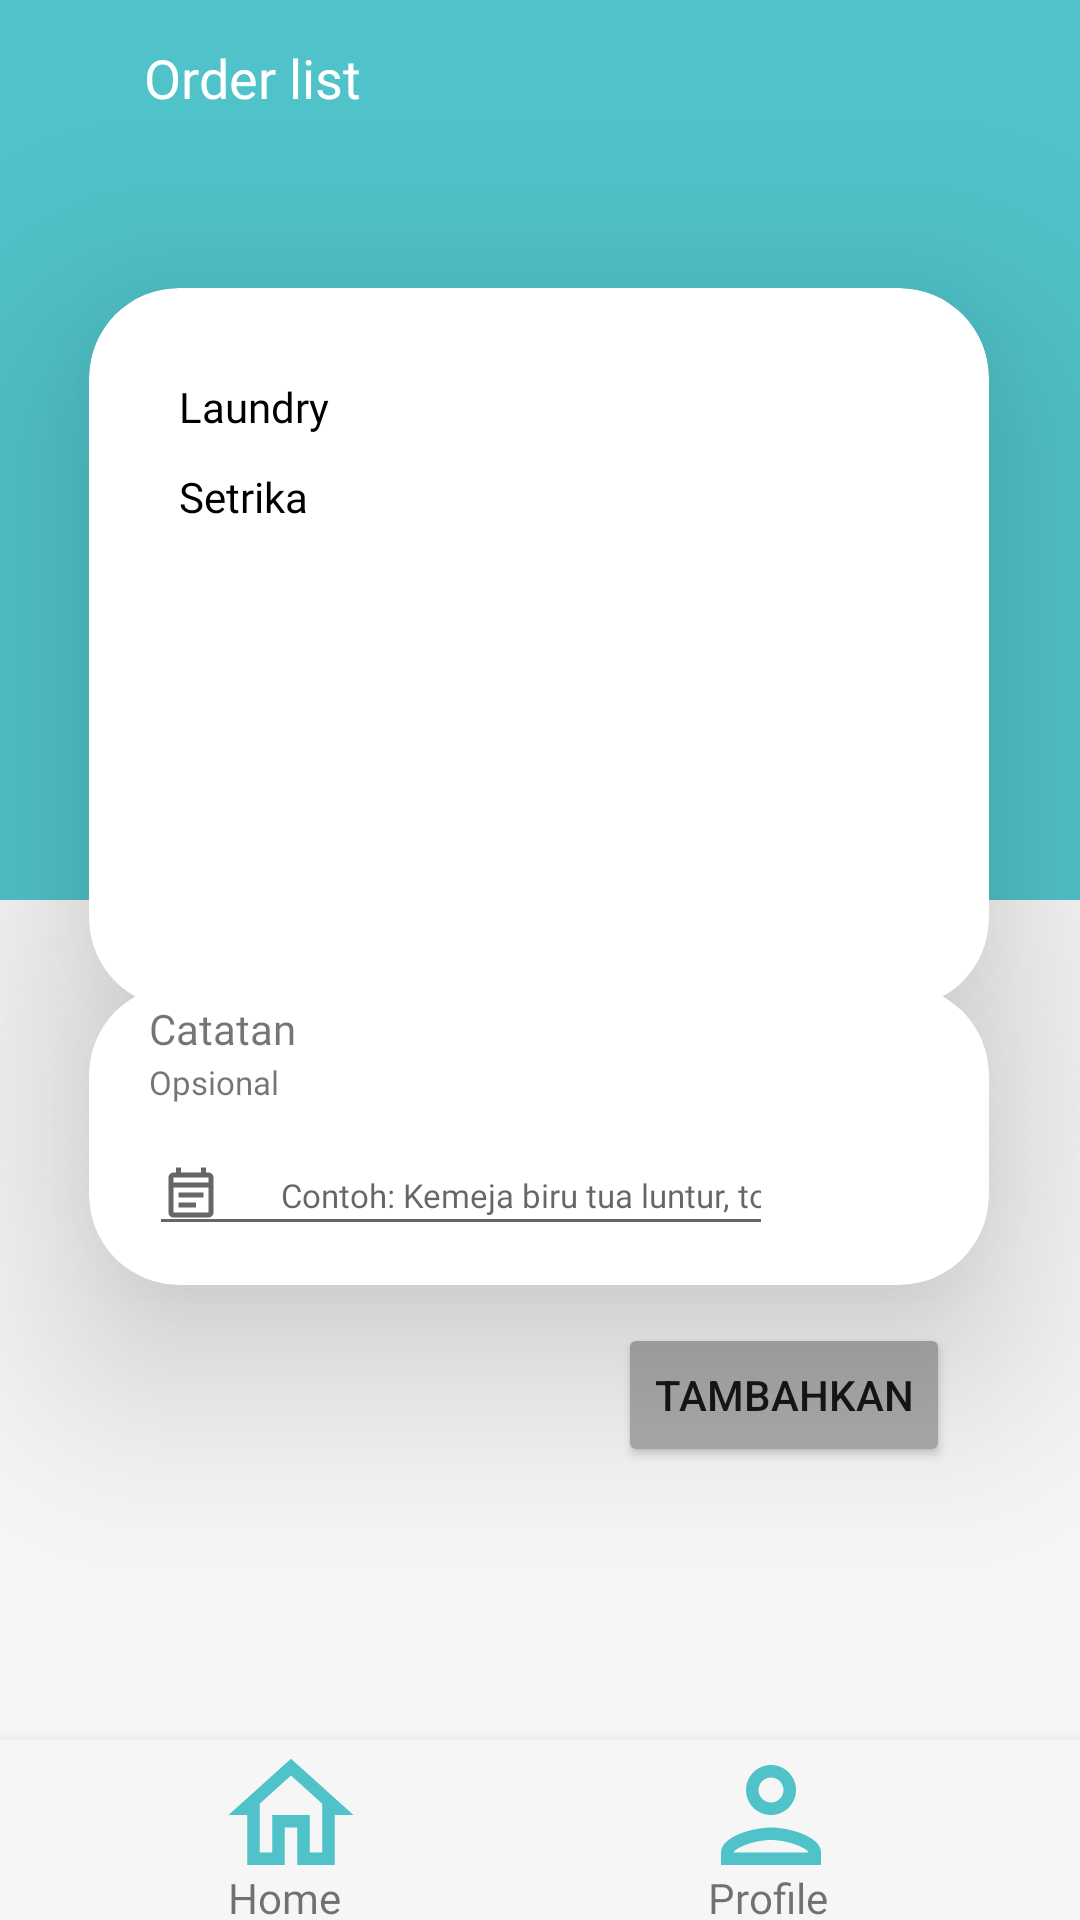

Screen size 1080 x 1920. Icon name, then its box in pixels as (x1, y1, x2, y2):
person: (721, 1765, 821, 1865)
